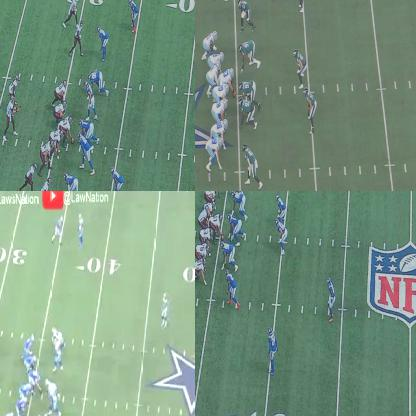CENTER: (222, 67, 236, 97), (61, 115, 74, 147), (212, 216, 223, 242), (28, 374, 42, 392)
DB: (266, 327, 277, 372), (326, 278, 336, 322), (76, 215, 85, 250), (128, 0, 138, 31), (98, 25, 107, 58), (162, 292, 169, 325), (295, 0, 306, 11)
LB: (79, 132, 94, 173), (304, 88, 318, 131), (243, 144, 255, 182), (293, 48, 305, 85), (276, 217, 288, 253), (239, 2, 252, 32), (48, 386, 61, 416), (85, 84, 95, 117), (226, 272, 236, 304), (277, 192, 287, 220), (53, 339, 62, 370), (111, 167, 122, 190)
QB: (4, 97, 18, 137), (206, 64, 218, 94), (198, 203, 208, 228)
SKILL: (208, 137, 223, 170), (195, 259, 209, 285), (65, 0, 78, 26), (211, 120, 230, 137), (74, 24, 84, 55), (26, 163, 36, 190), (54, 217, 63, 244), (9, 73, 20, 95), (39, 180, 51, 190)
